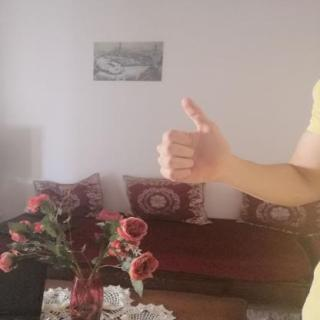ALIF: (147, 86, 250, 194)
